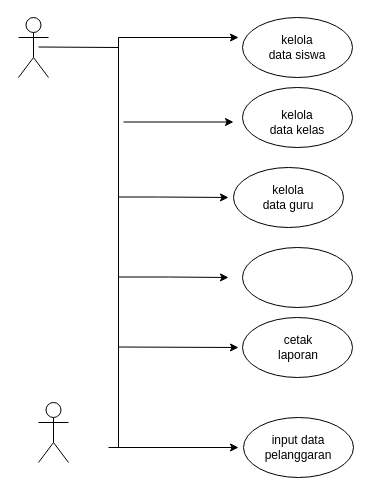
The diagram is 371 pixels wide and 501 high, and some of its shapes have lost their labels. Each missing label, with the centre of its shape:
"admin" goes at (33,47).
"guru" goes at (53,432).
"kelola data wali murid" goes at (297,277).
